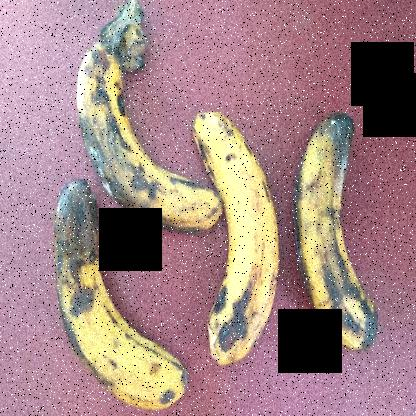overripe: (192, 109, 300, 396)
rotten: (44, 171, 200, 413), (70, 1, 222, 239), (288, 95, 394, 374)
